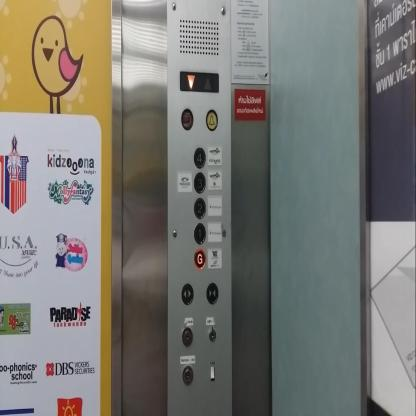1: (194, 222, 206, 244)
2: (193, 196, 206, 218)
3: (193, 171, 206, 194)
4: (193, 145, 206, 169)
G: (194, 247, 205, 270)
alarm: (206, 109, 218, 130)
bt_switch: (180, 107, 194, 130)
close: (206, 283, 218, 303)
keyhole: (181, 362, 196, 386), (182, 326, 193, 346), (208, 322, 217, 346)
open: (181, 282, 194, 304)
switch: (207, 359, 218, 385)
